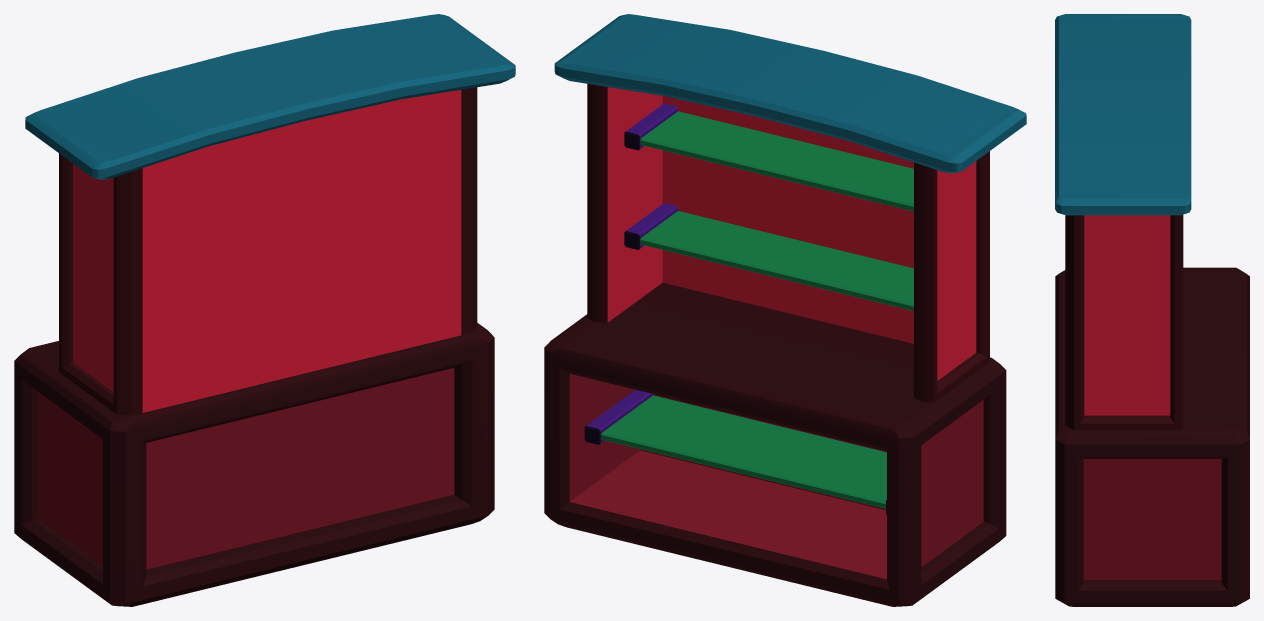
The model's file is MESH_Shelf.fbx.
The picture shows the model from 3 angles, left to right: view 1: azimuth 30°, elevation 25°; view 2: azimuth 150°, elevation 25°; view 3: azimuth 270°, elevation 25°; orthographic projection. The views are drawn at different scales.
Parts seen in each view (by area): view 1: MESH_Shelf; view 2: MESH_Shelf; view 3: MESH_Shelf.
Boxes of the visible parts, bbox=[...] form: MESH_Shelf: bbox=[14, 14, 515, 606]; MESH_Shelf: bbox=[544, 14, 1026, 606]; MESH_Shelf: bbox=[1055, 14, 1249, 606].
Size of the model in its own units: 1.78 by 1.87 by 0.7686.
